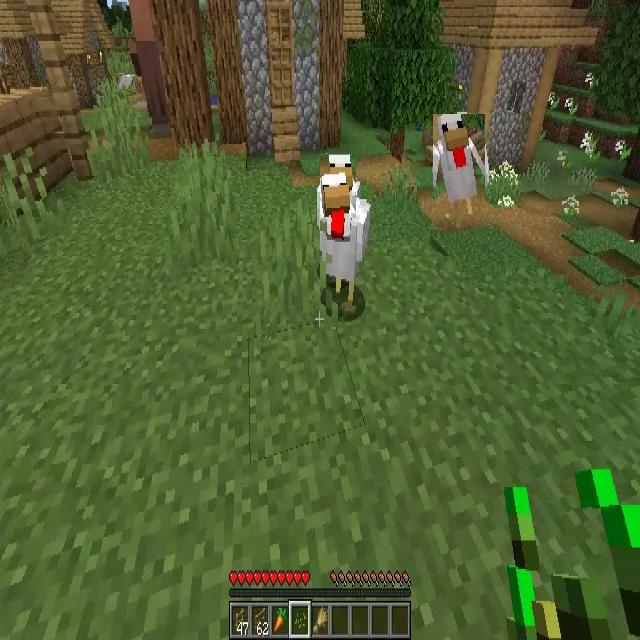duck: (319, 174, 372, 308), (433, 114, 485, 214), (320, 154, 356, 218)
sheep: (119, 74, 135, 90)
